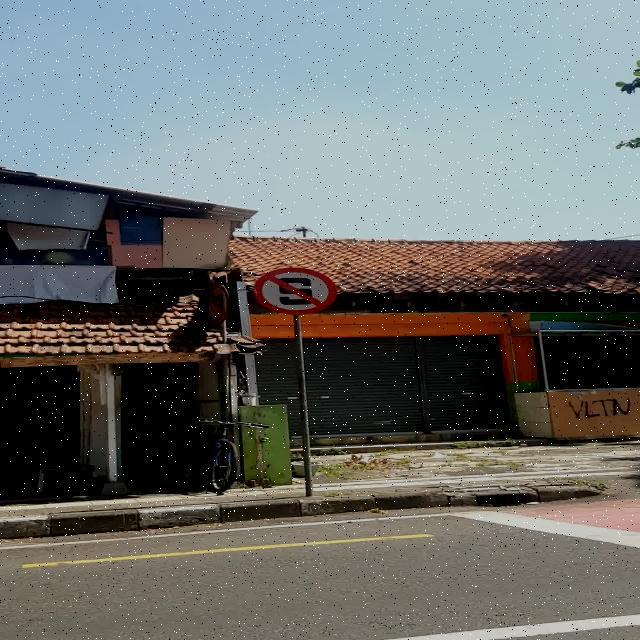Dilarang Berhenti: (254, 268, 337, 314)
